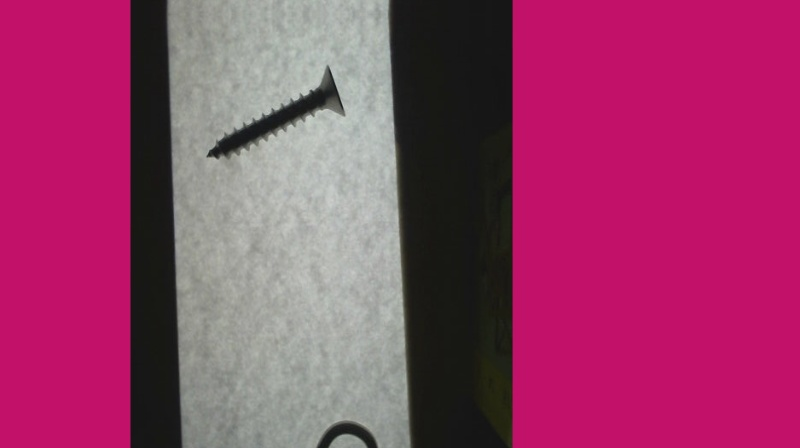O001: (250, 417, 383, 447)
S001: (204, 57, 346, 163)
